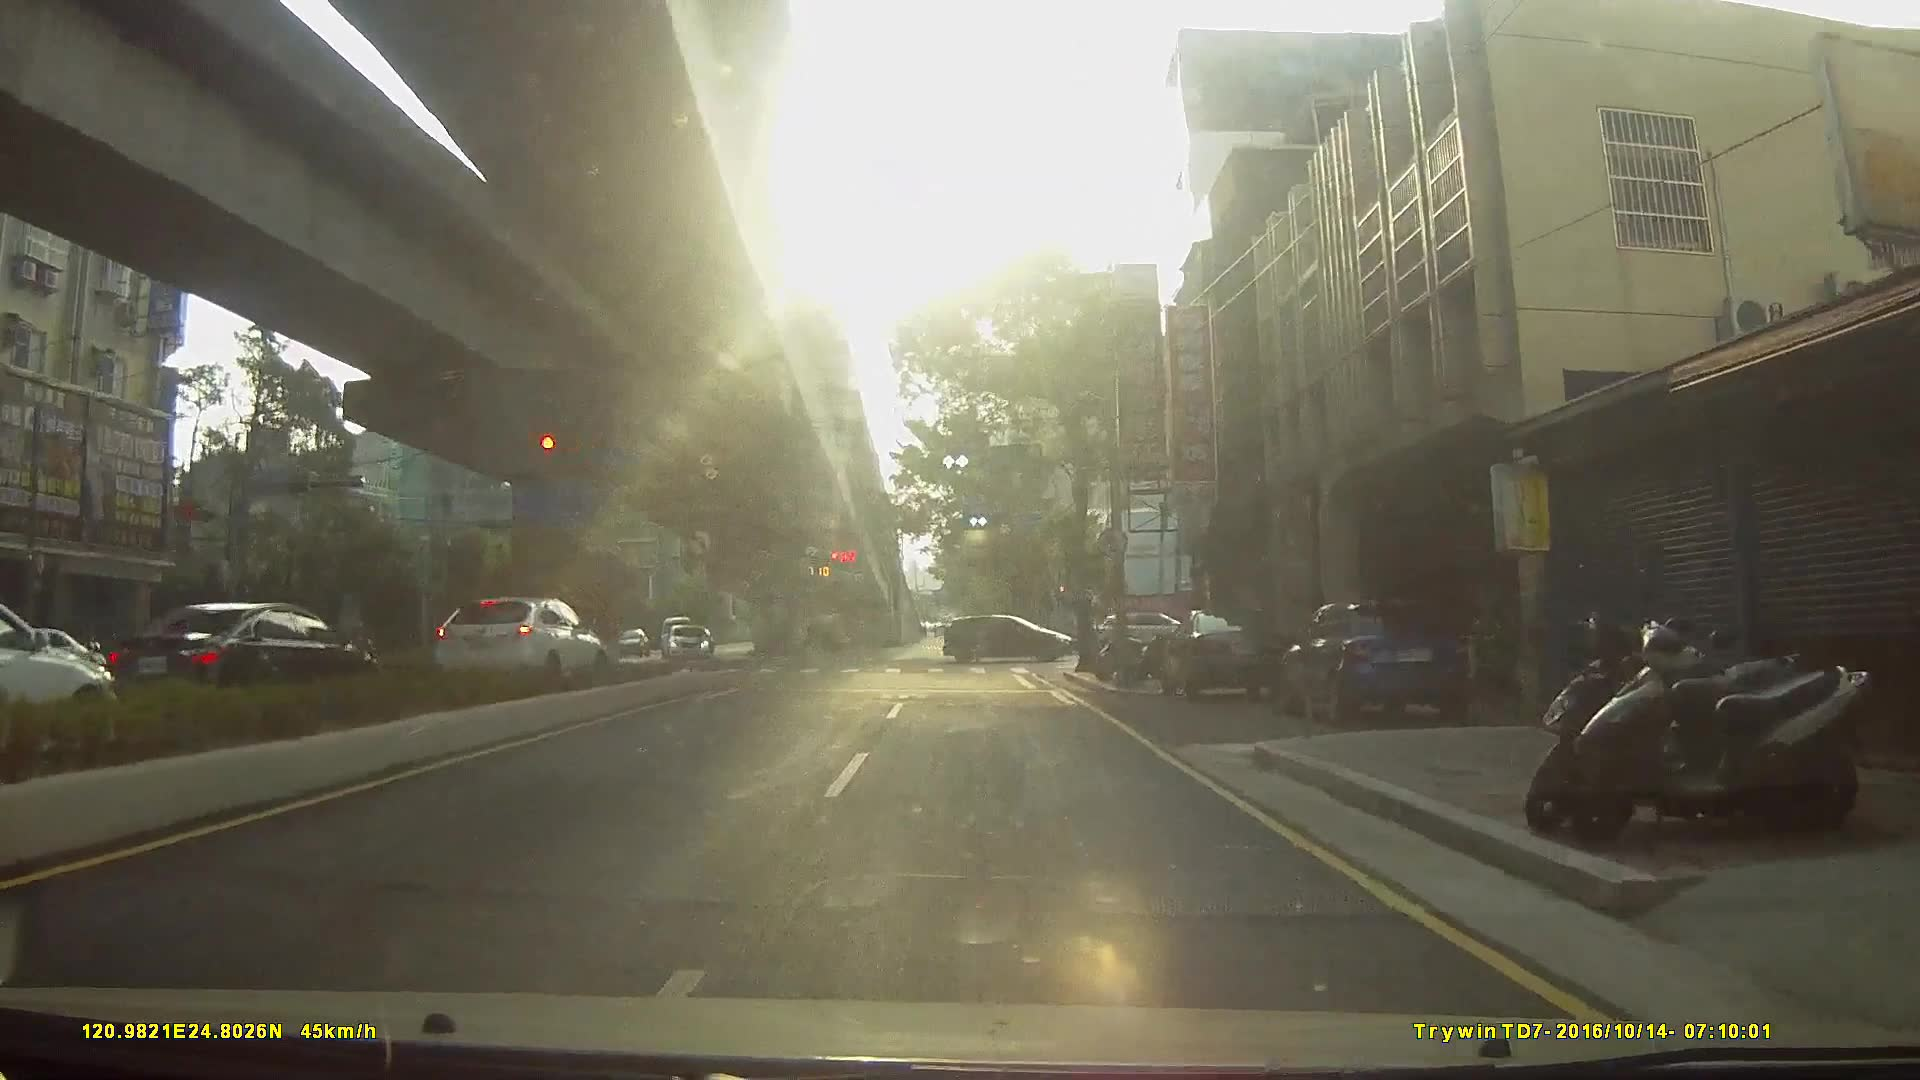vehicle: (80, 595, 393, 709), (1282, 603, 1484, 735), (1, 600, 127, 749), (421, 596, 600, 688), (1160, 609, 1294, 707), (944, 616, 1077, 669), (661, 626, 709, 666), (605, 629, 647, 658)
